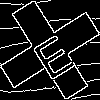E: (25, 25, 77, 82)
